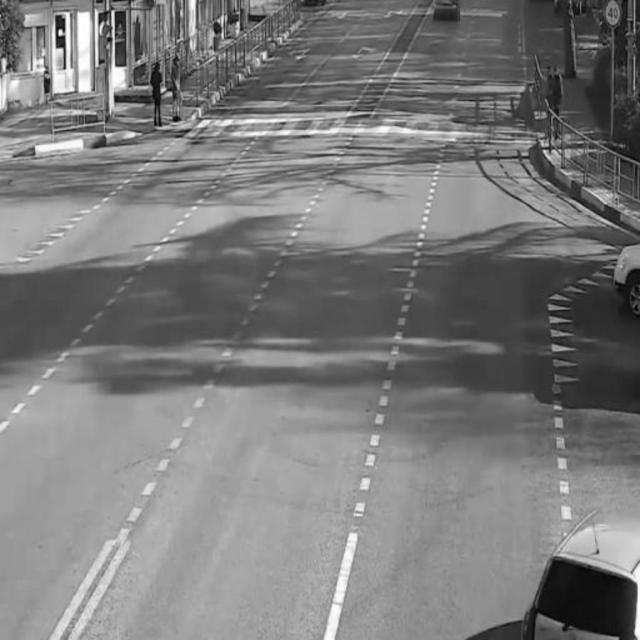person: (145, 50, 165, 132), (550, 55, 568, 136), (171, 49, 186, 122)
vehicle: (522, 514, 640, 636), (613, 235, 640, 318)
